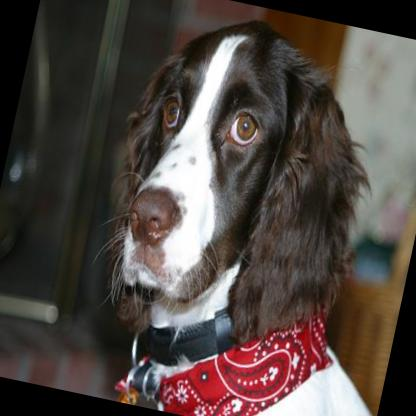English_springer: (65, 6, 416, 416)
